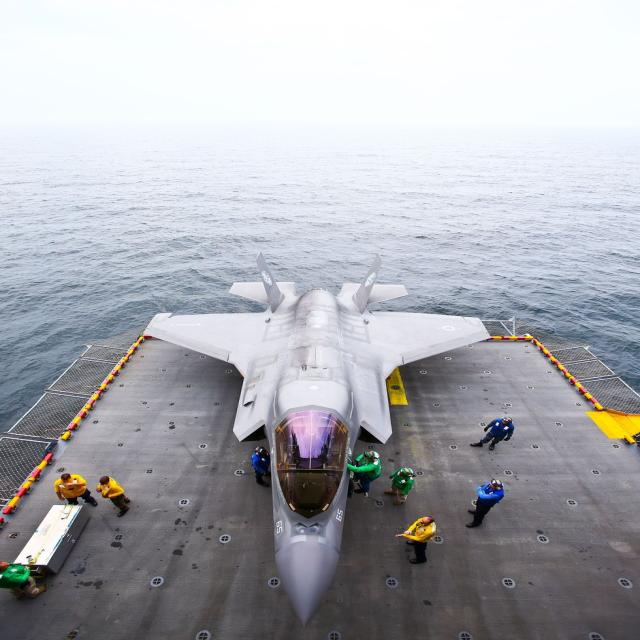MIL_Plane: (144, 251, 491, 628)
